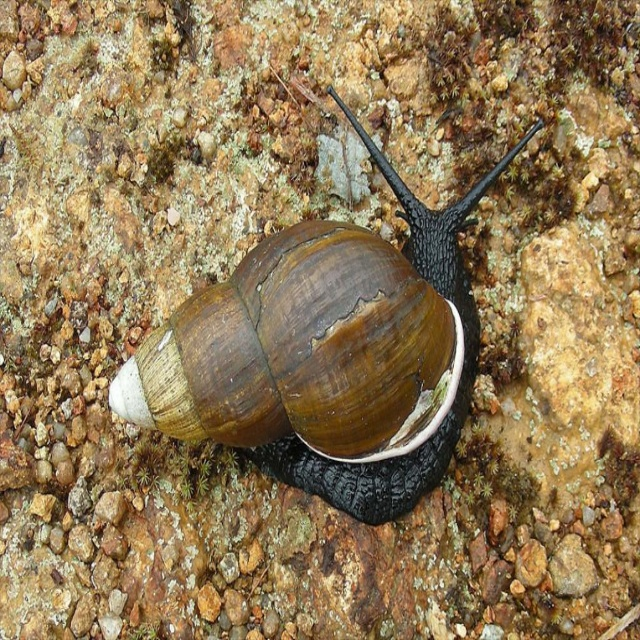Snail: (106, 83, 545, 529)
